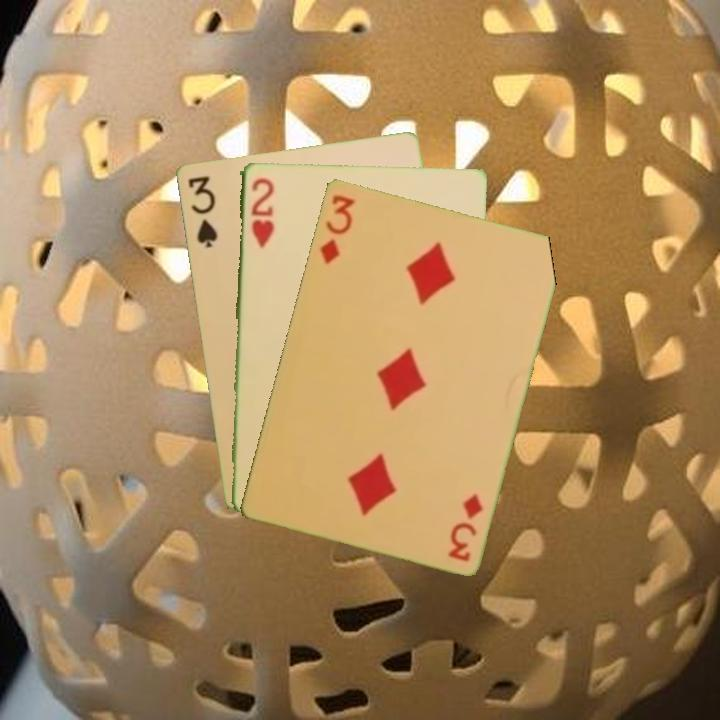2h: (247, 174, 276, 251)
3d: (316, 190, 357, 267), (444, 489, 485, 564)
3s: (184, 172, 220, 251)
